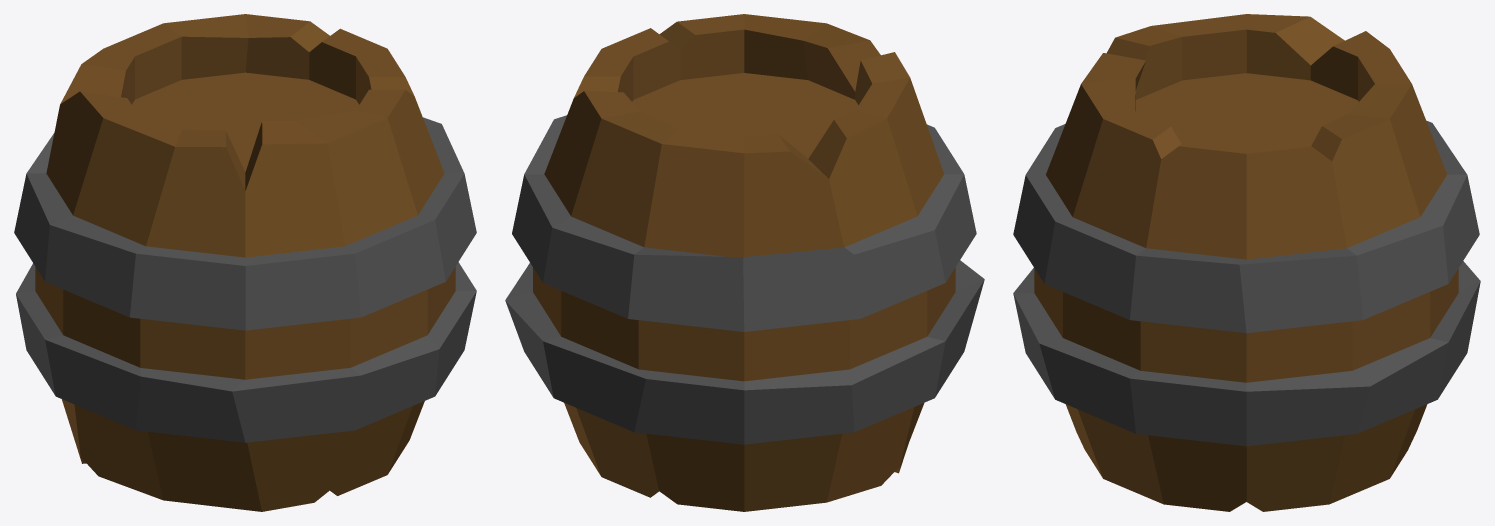
The model's file is Barrel.fbx.
3 renders of one model, left to right at view 1: azimuth 30°, elevation 25°; view 2: azimuth 150°, elevation 25°; view 3: azimuth 270°, elevation 25°, orthographic.
Parts seen in each view (by area): view 1: Barrel.005; view 2: Barrel.005; view 3: Barrel.005.
Part boxes in pixels (x1,y1,x2,y2): Barrel.005: (14,14,476,511); Barrel.005: (505,14,984,511); Barrel.005: (1013,14,1480,511).
Bounding box in the file's own units: 330 × 288 × 331.
